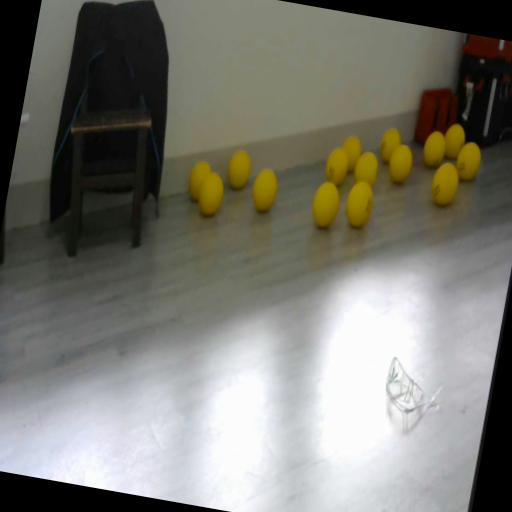FUEL: (307, 178, 343, 230), (342, 178, 376, 228), (248, 164, 281, 214), (194, 168, 227, 218), (428, 160, 462, 208), (452, 138, 484, 182), (224, 146, 254, 190), (386, 142, 416, 184), (352, 148, 380, 188), (420, 128, 448, 168), (440, 121, 468, 161), (338, 134, 364, 174), (376, 125, 402, 160)
